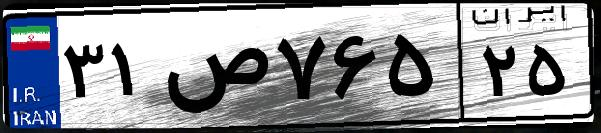1: (110, 28, 158, 98)
2: (475, 38, 525, 113)
3: (57, 26, 110, 100)
5: (385, 28, 445, 110), (525, 38, 570, 115)
6: (330, 28, 385, 110)
7: (270, 28, 330, 110)
ص: (158, 20, 270, 120)
